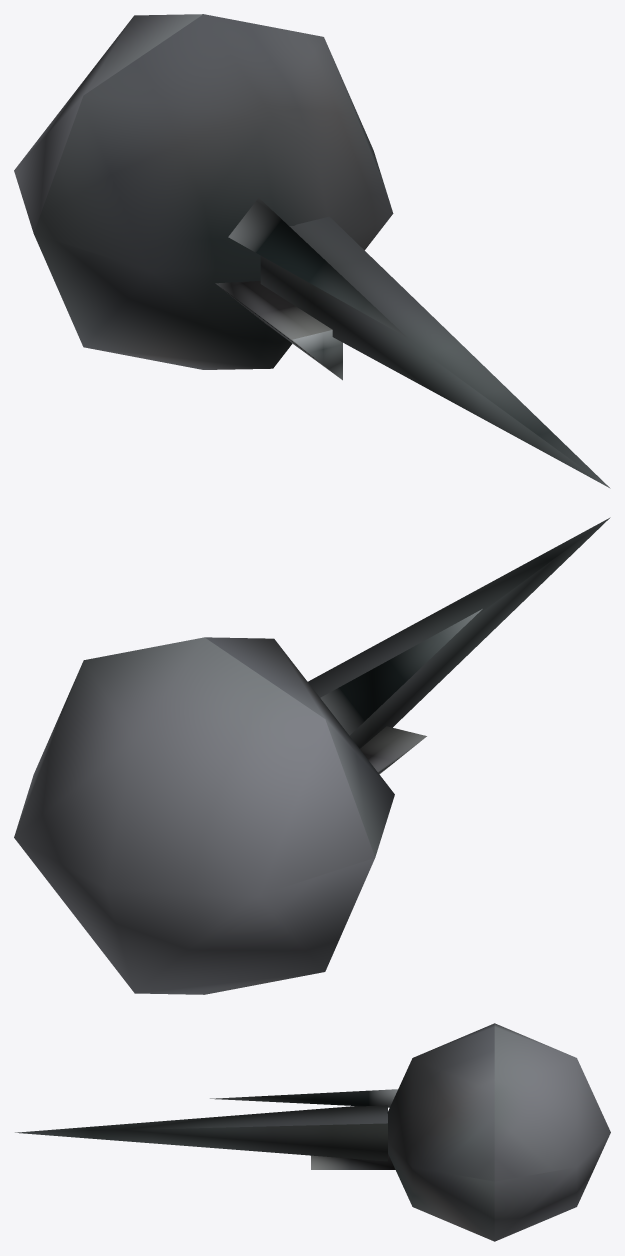
Rendered from imperial_gunboat_turret_ball_l3.fbx.
3 views of the same model, one above another, from view 1: azimuth 30°, elevation 25°; view 2: azimuth 150°, elevation 25°; view 3: azimuth 270°, elevation 25° (orthographic). The views are drawn at different scales.
Parts seen in each view (by area): view 1: mesh_node; view 2: mesh_node; view 3: mesh_node.
Boxes of the visible parts, x1=… form: mesh_node: x1=14, y1=14, x2=610, y2=488; mesh_node: x1=14, y1=517, x2=610, y2=994; mesh_node: x1=15, y1=1023, x2=610, y2=1241.
Bounding box in the file's own units: 4.01 × 4.01 × 10.3.
1 material, 1 textured.
